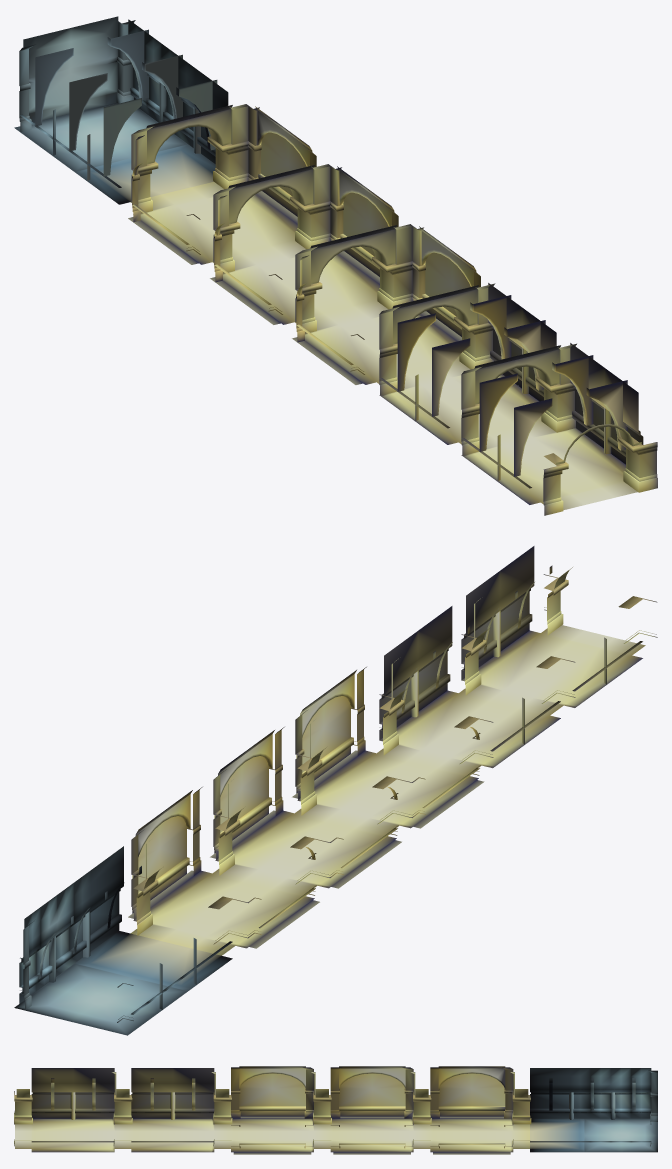
File: 04HallC.gltf
3 views of the same model, one above another, from view 1: azimuth 30°, elevation 25°; view 2: azimuth 150°, elevation 25°; view 3: azimuth 270°, elevation 25° (orthographic). The views are drawn at different scales.
Visible parts, largest first — view 1: stg040_o37_Mesh_0011, stg040_o37_Mesh_0007, stg040_o37_Mesh_0014, stg040_o37_Mesh_0012, stg040_o37_Mesh_0004, stg040_o37_Mesh_0008, stg040_o37_Mesh_0006, stg040_o37_Mesh_0015, stg040_o37_Mesh_0013, stg040_o37_Mesh_0000, stg040_o37_Mesh_0001, stg040_o37_Mesh_0016 (+4 smaller); view 2: stg040_o37_Mesh_0014, stg040_o37_Mesh_0011, stg040_o37_Mesh_0004, stg040_o37_Mesh_0015, stg040_o37_Mesh_0012, stg040_o37_Mesh_0013, stg040_o37_Mesh_0008, stg040_o37_Mesh_0000, stg040_o37_Mesh_0016, stg040_o37_Mesh_0009, stg040_o37_Mesh_0007, stg040_o37_Mesh_0017 (+4 smaller); view 3: stg040_o37_Mesh_0011, stg040_o37_Mesh_0004, stg040_o37_Mesh_0014, stg040_o37_Mesh_0008, stg040_o37_Mesh_0012, stg040_o37_Mesh_0000, stg040_o37_Mesh_0015, stg040_o37_Mesh_0013, stg040_o37_Mesh_0007, stg040_o37_Mesh_0006, stg040_o37_Mesh_0016, stg040_o37_Mesh_0001 (+4 smaller).
Part boxes in pixels (box(x1,y1,x2,y2)): stg040_o37_Mesh_0011: box(19, 16, 657, 504); stg040_o37_Mesh_0007: box(35, 31, 627, 475); stg040_o37_Mesh_0014: box(148, 197, 623, 500); stg040_o37_Mesh_0012: box(14, 22, 625, 493); stg040_o37_Mesh_0004: box(78, 145, 657, 503); stg040_o37_Mesh_0008: box(19, 37, 656, 501); stg040_o37_Mesh_0006: box(147, 109, 559, 402); stg040_o37_Mesh_0015: box(123, 162, 595, 492); stg040_o37_Mesh_0013: box(130, 182, 637, 510); stg040_o37_Mesh_0000: box(20, 86, 625, 488); stg040_o37_Mesh_0001: box(20, 92, 657, 515); stg040_o37_Mesh_0016: box(16, 103, 185, 171); stg040_o37_Mesh_0014: box(153, 634, 629, 943); stg040_o37_Mesh_0011: box(20, 546, 657, 1021); stg040_o37_Mesh_0004: box(78, 591, 640, 988); stg040_o37_Mesh_0015: box(123, 643, 595, 977); stg040_o37_Mesh_0012: box(14, 603, 598, 1035); stg040_o37_Mesh_0013: box(130, 625, 645, 955); stg040_o37_Mesh_0008: box(23, 565, 560, 996); stg040_o37_Mesh_0000: box(20, 614, 642, 1014); stg040_o37_Mesh_0016: box(16, 964, 185, 1034); stg040_o37_Mesh_0009: box(19, 591, 529, 986); stg040_o37_Mesh_0007: box(138, 696, 350, 863); stg040_o37_Mesh_0017: box(50, 978, 151, 1020); stg040_o37_Mesh_0011: box(14, 1066, 657, 1152); stg040_o37_Mesh_0004: box(15, 1088, 579, 1154); stg040_o37_Mesh_0014: box(34, 1122, 510, 1148); stg040_o37_Mesh_0008: box(15, 1078, 657, 1115); stg040_o37_Mesh_0012: box(31, 1069, 657, 1152); stg040_o37_Mesh_0000: box(31, 1106, 651, 1144); stg040_o37_Mesh_0015: box(34, 1132, 579, 1138); stg040_o37_Mesh_0013: box(15, 1124, 529, 1148); stg040_o37_Mesh_0007: box(240, 1073, 504, 1088); stg040_o37_Mesh_0006: box(239, 1068, 505, 1084); stg040_o37_Mesh_0016: box(585, 1119, 656, 1151); stg040_o37_Mesh_0001: box(14, 1111, 657, 1148).
Size of the model in its own units: 20.47 by 13.04 by 146.
